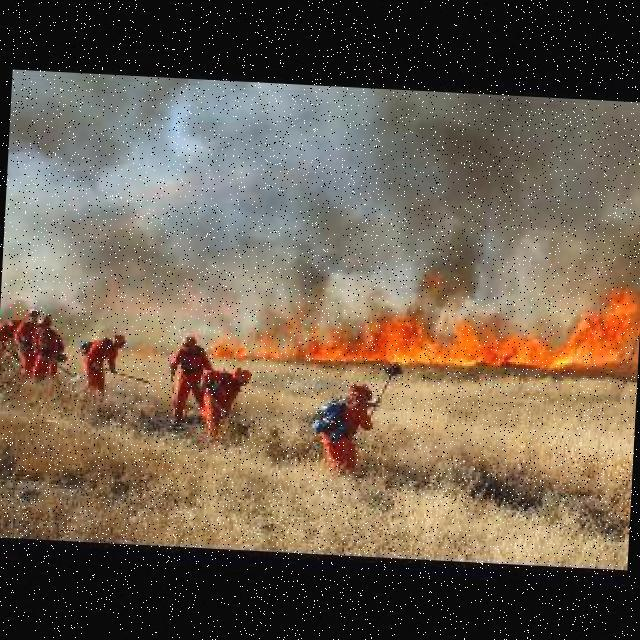Fire: (218, 265, 636, 375)
Smoke: (406, 103, 535, 331), (280, 226, 339, 331)
